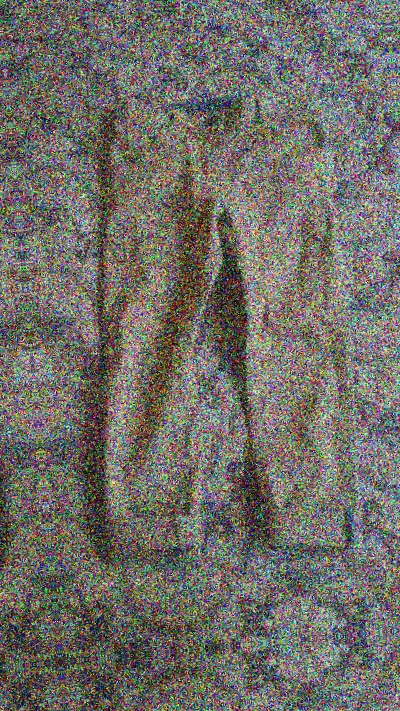Pants: (36, 30, 396, 589), (0, 65, 21, 624), (99, 701, 400, 711)
